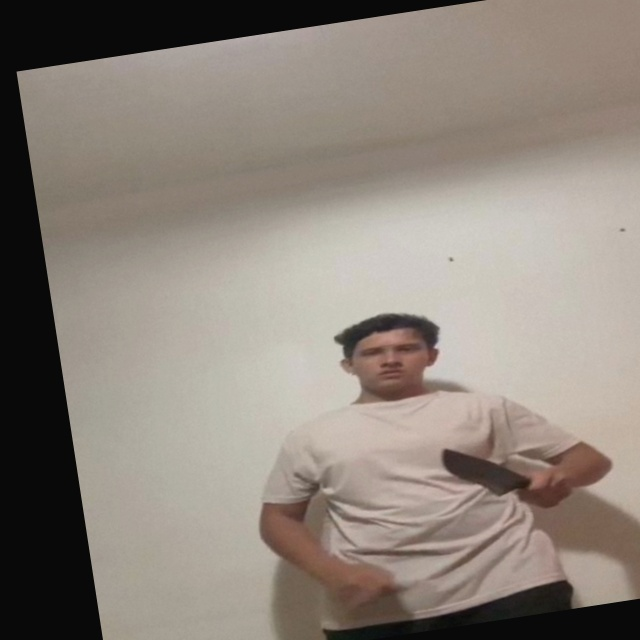Sharp-Object: (437, 438, 514, 499)
